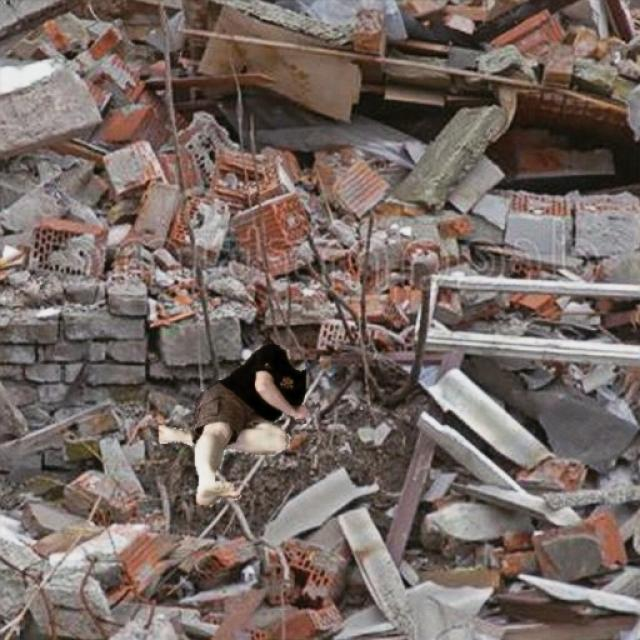Person in Rubble: (159, 342, 305, 507)
